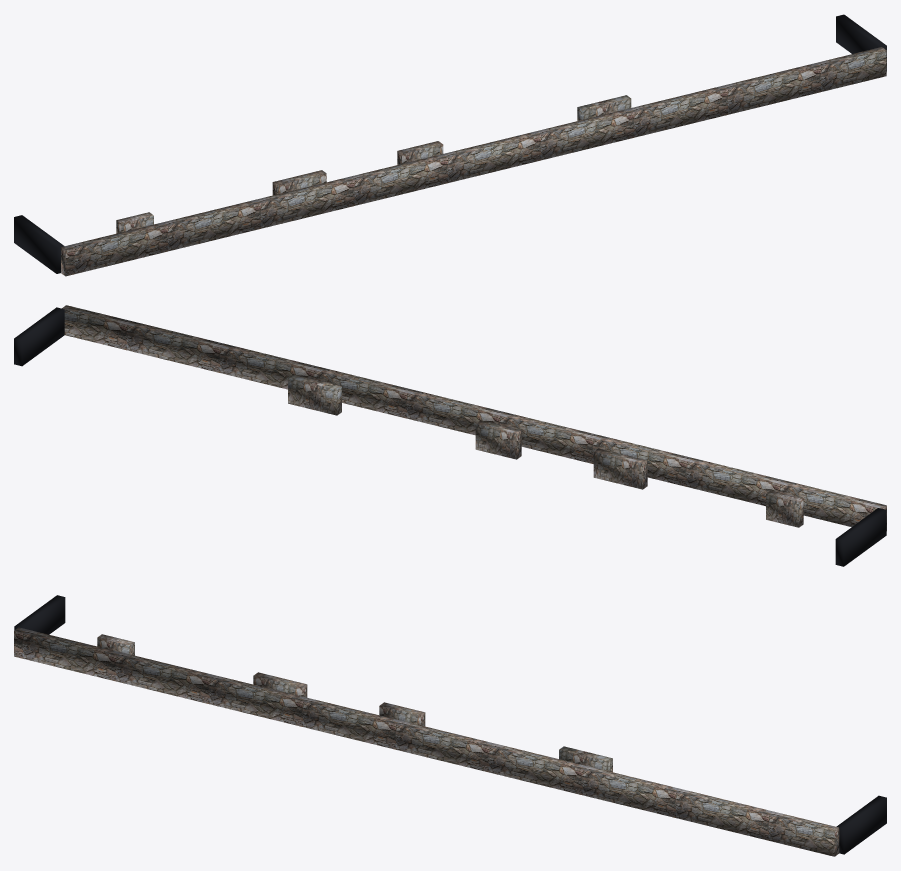
File: nivel3.obj
3 renders of one model, top to bottom at view 1: azimuth 30°, elevation 25°; view 2: azimuth 150°, elevation 25°; view 3: azimuth 330°, elevation 25°, orthographic.
Parts seen in each view (by area): view 1: Box010, Box012, Box013, Box015, Box022, Box023, Box017; view 2: Box010, Box012, Box013, Box022, Box015, Box023, Box017; view 3: Box010, Box013, Box012, Box015, Box022, Box023, Box017.
Boxes of the visible parts, left/top/right/bottom form: Box010: left=61, top=47, right=886, bottom=276; Box012: left=14, top=215, right=64, bottom=273; Box013: left=836, top=14, right=886, bottom=71; Box015: left=577, top=95, right=631, bottom=120; Box022: left=272, top=170, right=326, bottom=195; Box023: left=397, top=141, right=443, bottom=164; Box017: left=116, top=212, right=153, bottom=233; Box010: left=62, top=305, right=886, bottom=530; Box012: left=835, top=508, right=886, bottom=566; Box013: left=14, top=307, right=64, bottom=366; Box022: left=593, top=448, right=647, bottom=489; Box015: left=288, top=374, right=341, bottom=415; Box023: left=475, top=420, right=521, bottom=459; Box017: left=766, top=490, right=803, bottom=527; Box010: left=14, top=627, right=839, bottom=856; Box013: left=836, top=795, right=886, bottom=854; Box012: left=14, top=595, right=65, bottom=634; Box015: left=559, top=746, right=612, bottom=772; Box022: left=253, top=672, right=307, bottom=697; Box023: left=379, top=702, right=425, bottom=726; Box017: left=97, top=634, right=134, bottom=655.
Bounding box in the file's own units: 1010 × 30 × 99.8.
